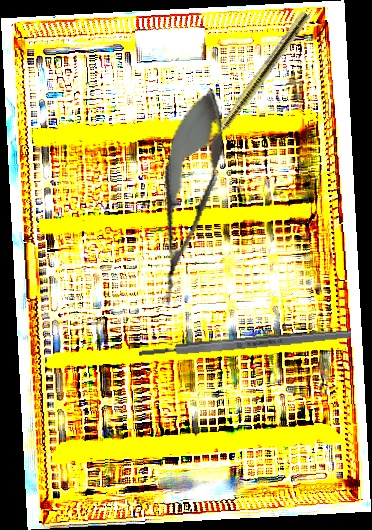Handpiece: (199, 9, 312, 156)
Micro Scissor: (138, 82, 237, 311)
Scalpel Handle: (138, 328, 352, 359)
